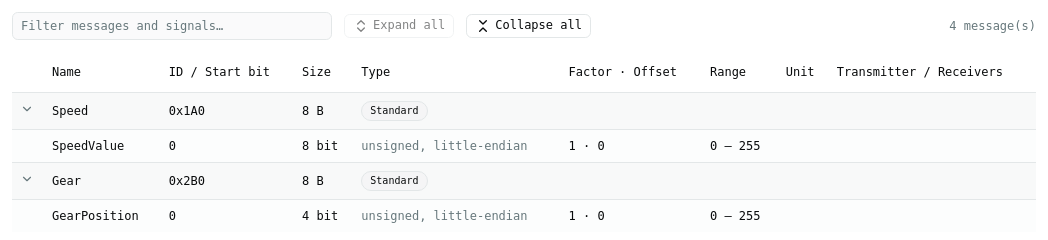
it: DbcTable expand and collapse all › hides every message's signals at once
Click the button "Collapse all": (529, 26) [466,14,591,38]
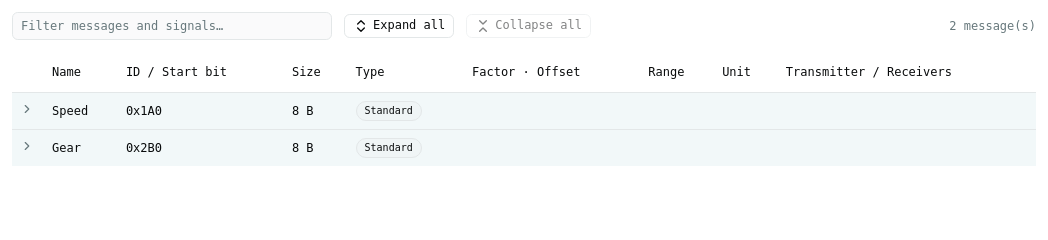
Expected: the text "SpeedValue" is gone
Expected: the text "GearPosition" is gone
Expected: the button "Collapse all" is disabled, [466,14,591,38]
